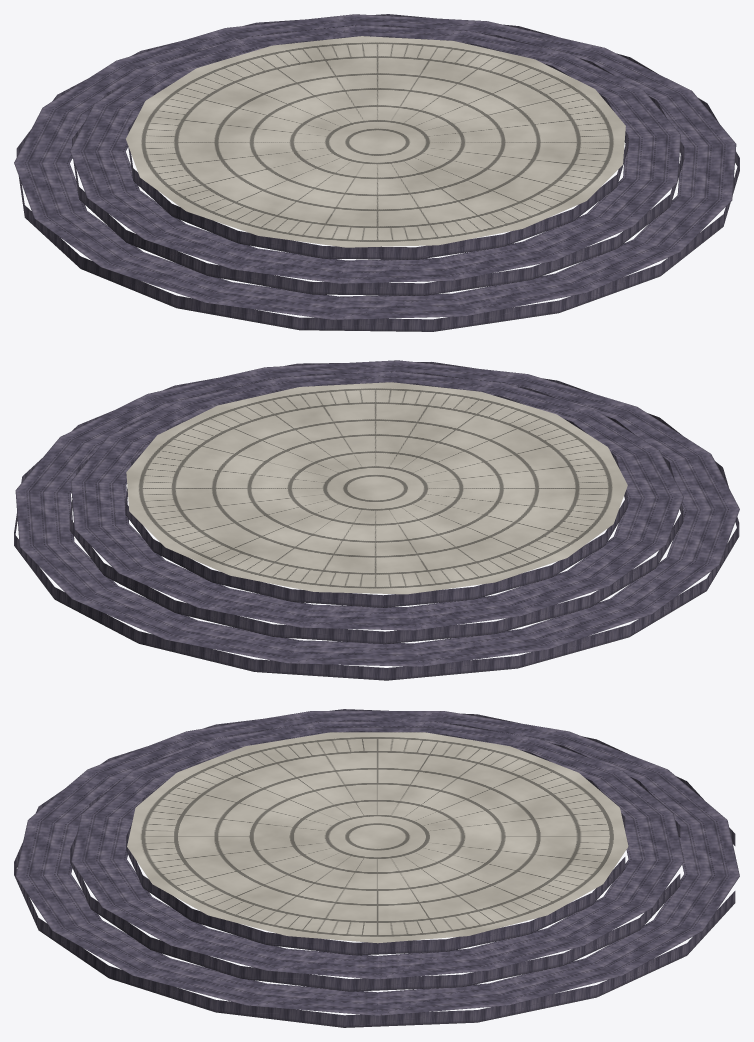
The model's file is Oracle_Hall_Dais_LOD2.gltf.
3 views of the same model, one above another, from view 1: azimuth 30°, elevation 25°; view 2: azimuth 150°, elevation 25°; view 3: azimuth 270°, elevation 25° (orthographic).
Visible parts, largest first — view 1: Oracle_Hall_Dais_LOD2; view 2: Oracle_Hall_Dais_LOD2; view 3: Oracle_Hall_Dais_LOD2.
Boxes of the visible parts, x1,y1,x2,y2 form: Oracle_Hall_Dais_LOD2: (14,14,739,331); Oracle_Hall_Dais_LOD2: (14,360,739,680); Oracle_Hall_Dais_LOD2: (14,709,739,1027).
Bounding box in the file's own units: 25.94 × 1.5 × 25.94.
2 materials, 2 textured.
